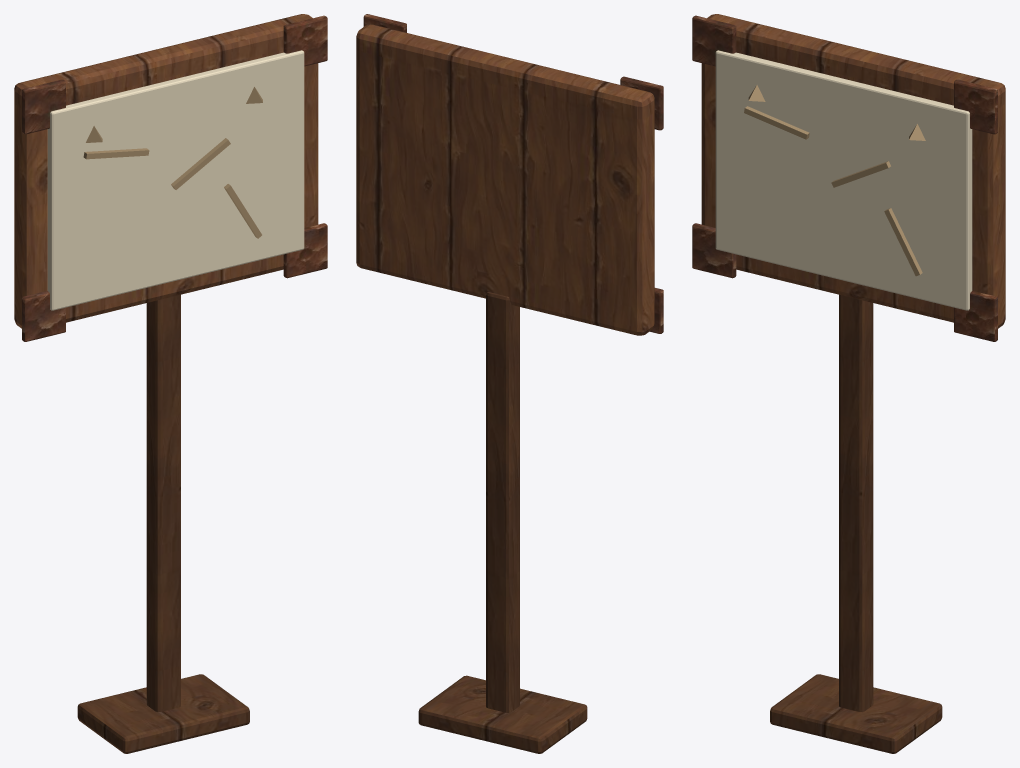
Rendered from map_board.glb.
3 views of the same model, side by side, from view 1: azimuth 30°, elevation 25°; view 2: azimuth 150°, elevation 25°; view 3: azimuth 330°, elevation 25° (orthographic).
Parts seen in each view (by area): view 1: model; view 2: model; view 3: model.
Part boxes in pixels (left/top/right/bottom): model: left=14, top=14, right=327, bottom=753; model: left=356, top=14, right=663, bottom=753; model: left=692, top=14, right=1005, bottom=753.
Size of the model in its own units: 0.72 by 1.53 by 0.2.
5 materials, 3 textured.
